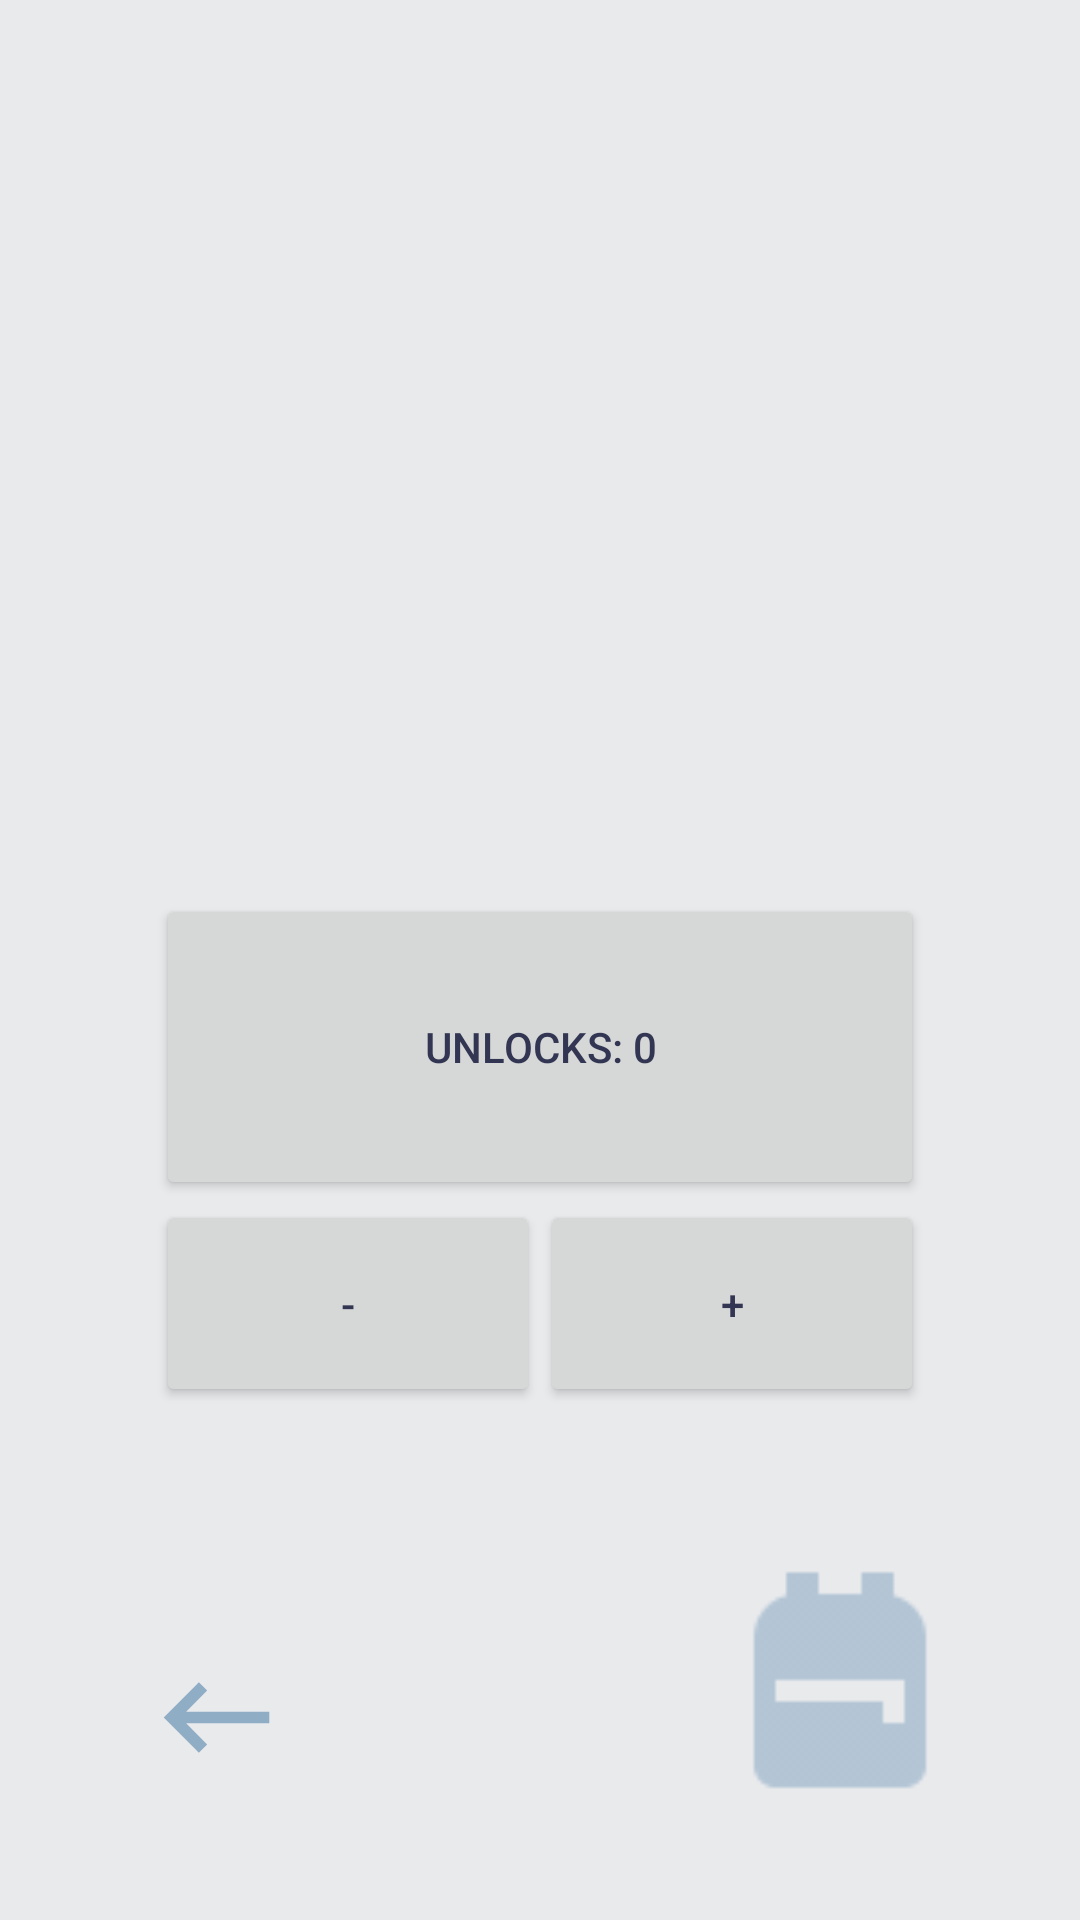

Named icons in this screenshot (1080px×1920px) and their centers, (x,y):
back: (217,1717)
inventory: (840,1680)
